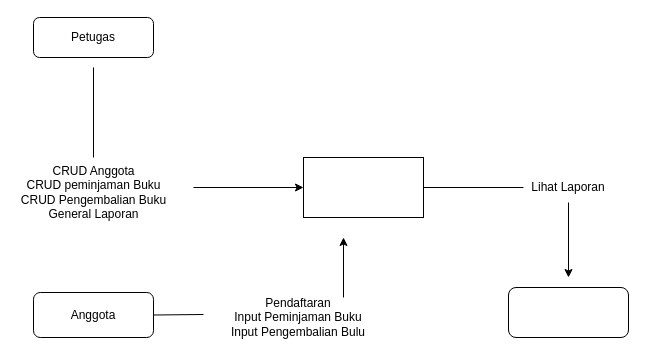
This 646x356 diagram has some shape labels left out. The shapes that lost their labels are listed below. From the top down, each one's centre as x and y in pixels, then its label:
the point at 363,187: Sistem Informasi Perpustakaan
the point at 568,312: Kepala Perpustakaan
